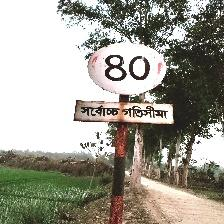Speed-limit: (74, 41, 173, 125)
